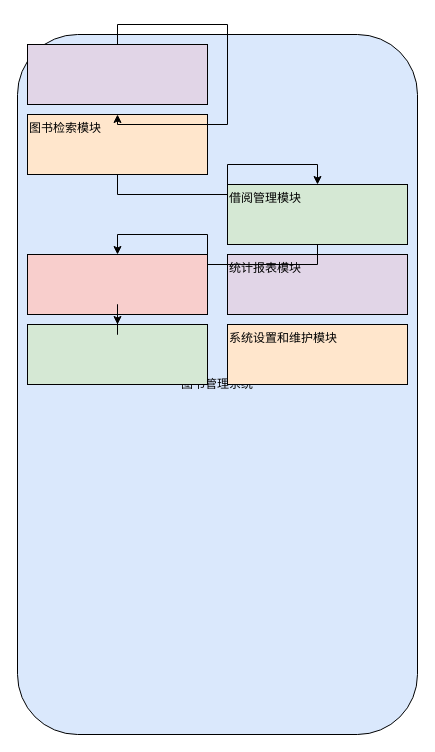
The diagram is 435 pixels wide and 752 high, and some of its shapes have lost their labels. Each missing label, with the centre of its shape:
"库存管理模块" goes at (117,284).
"用户管理模块" goes at (117,74).
"编目管理模块" goes at (117,354).
